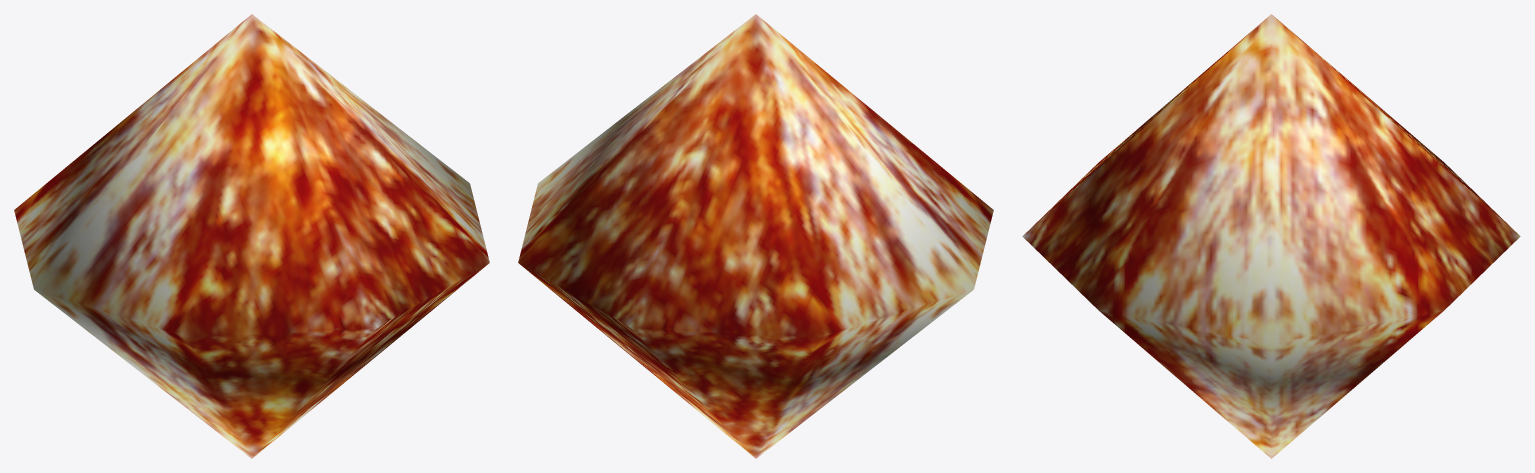
The model's file is Item0901.obj.
3 renders of one model, left to right at view 1: azimuth 30°, elevation 25°; view 2: azimuth 150°, elevation 25°; view 3: azimuth 270°, elevation 25°, orthographic.
Visible parts, largest first — view 1: 0; view 2: 0; view 3: 0.
Part boxes in pixels (x1,y1,x2,y2): 0: (14,14,489,458); 0: (518,14,993,458); 0: (1022,14,1520,458).
Size of the model in its own units: 15.15 by 14.78 by 15.
